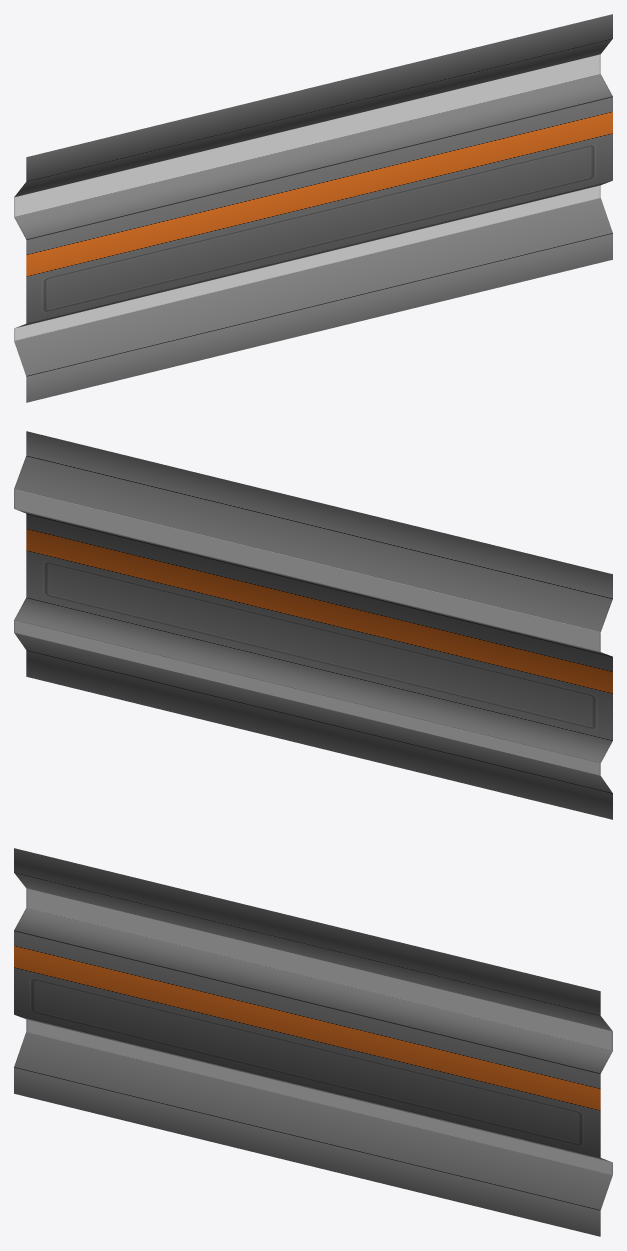
File: wallPlane.fbx
3 renders of one model, top to bottom at view 1: azimuth 30°, elevation 25°; view 2: azimuth 150°, elevation 25°; view 3: azimuth 330°, elevation 25°, orthographic.
Visible parts, largest first — view 1: WallPlane1, Light1, Light2; view 2: WallPlane1, Light1, Light2; view 3: WallPlane1, Light1, Light2.
Part boxes in pixels (box(x1,y1,x2,y2)): WallPlane1: box(14, 14, 612, 402); Light1: box(14, 54, 600, 216); Light2: box(14, 185, 600, 340); WallPlane1: box(14, 431, 612, 819); Light1: box(14, 489, 600, 651); Light2: box(14, 620, 600, 775); WallPlane1: box(14, 848, 612, 1236); Light1: box(26, 888, 612, 1050); Light2: box(26, 1019, 612, 1174).
Size of the model in its own units: 30 by 12 by 1.08.
